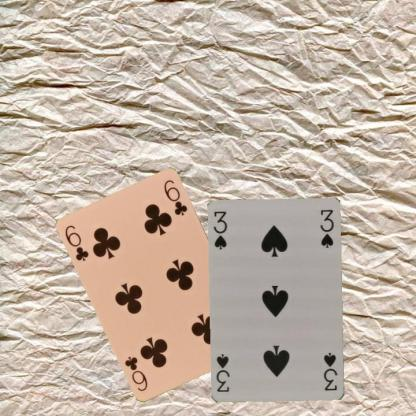3s: (321, 350, 339, 392), (211, 208, 229, 250)
6c: (62, 222, 91, 263)
